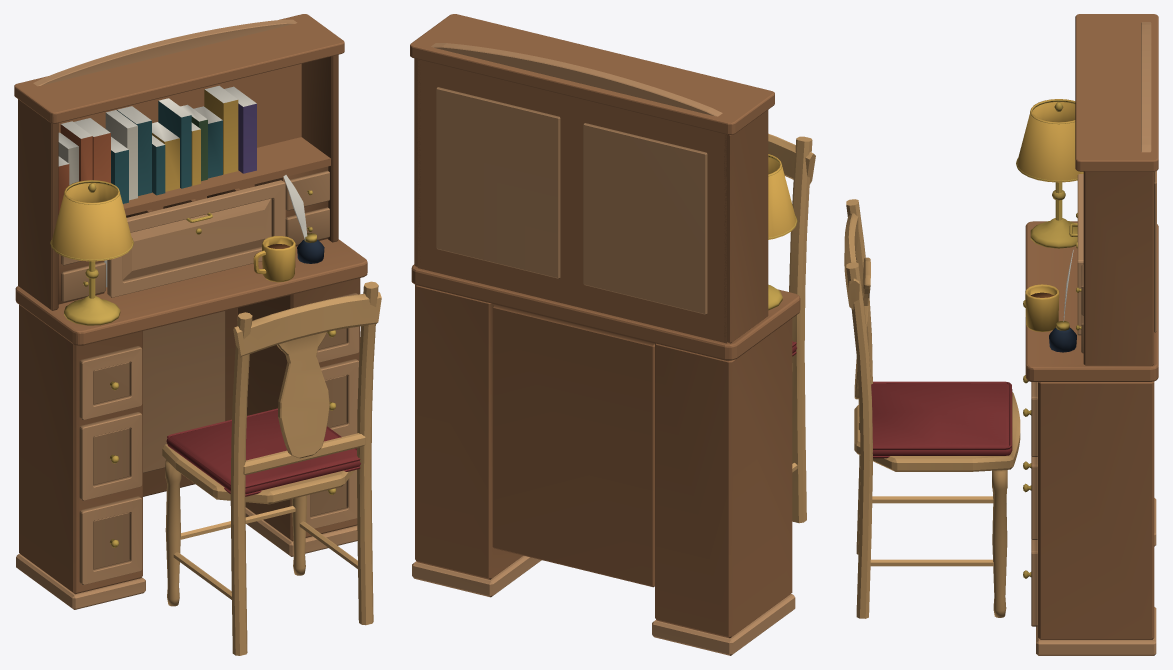
Rendered from writingBureau.glb.
The picture shows the model from 3 angles, left to right: view 1: azimuth 30°, elevation 25°; view 2: azimuth 150°, elevation 25°; view 3: azimuth 270°, elevation 25°; orthographic projection. The views are drawn at different scales.
Visible parts, largest first — view 1: body, flap; view 2: body; view 3: body, flap.
Part boxes in pixels (x1,y1,x2,y2): body: (14,14,381,655); flap: (107,180,285,297); body: (410,14,815,655); body: (844,14,1158,655); flap: (1069,174,1083,335).
Size of the model in its own units: 0.8535 by 1.35 by 0.7562.
